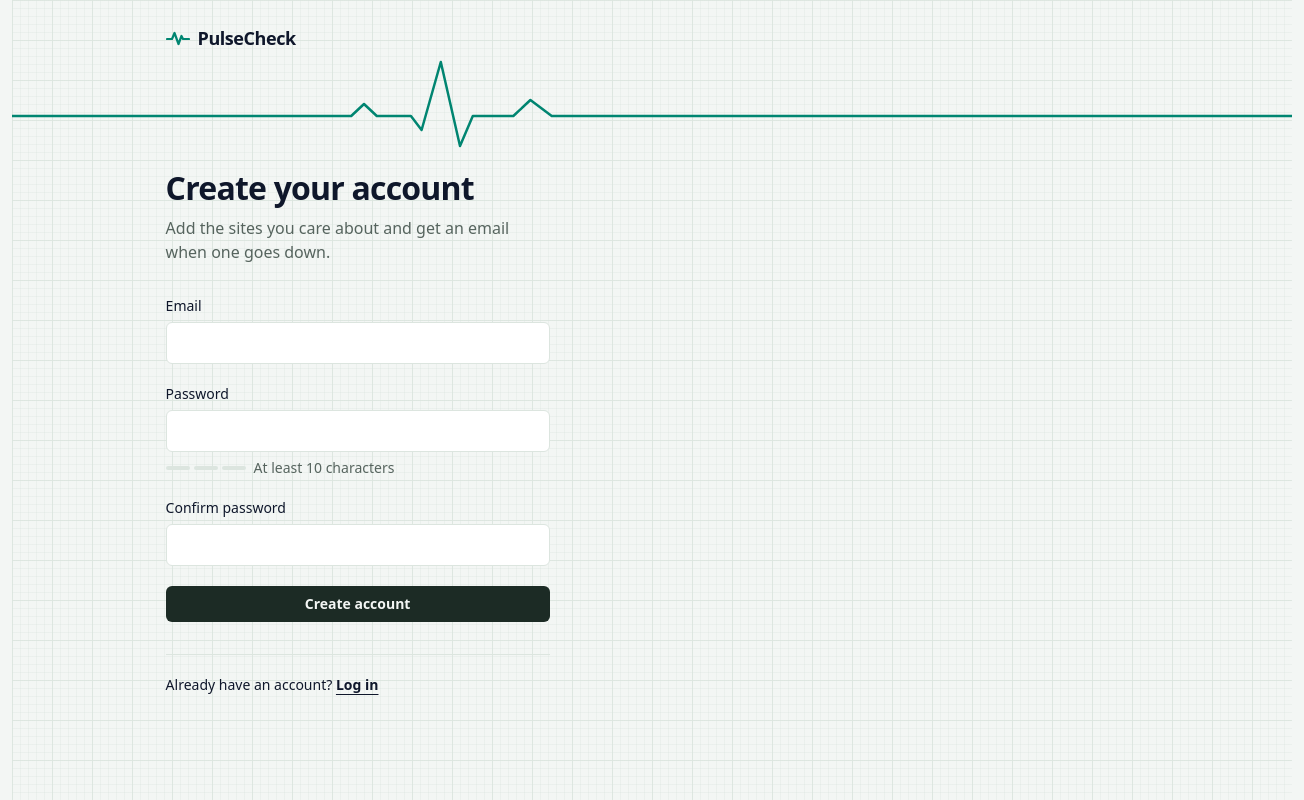
Scenario: Signup › enforces length, common-password and confirmation rules
In the field labelled "Email": (358, 343) [166,322,550,364], type "ada@example.com"
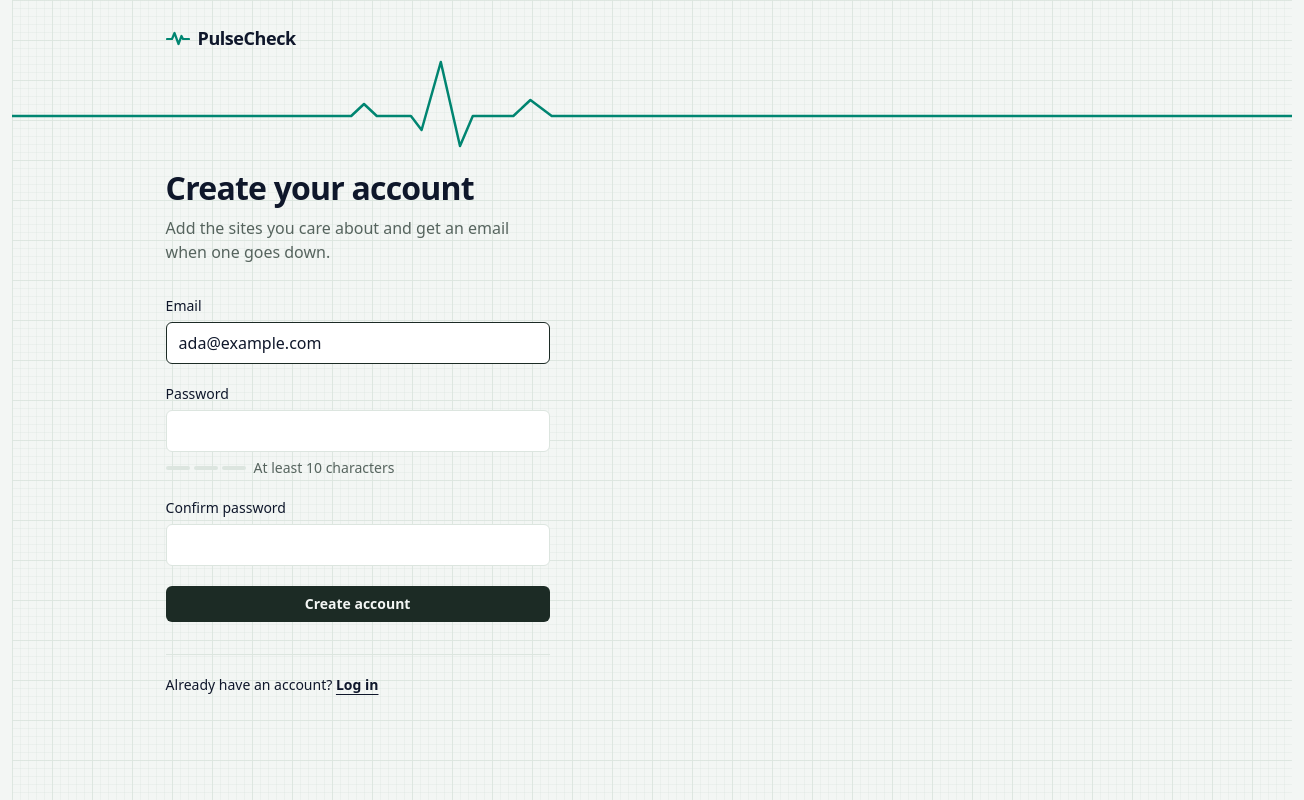
In the password field labelled "Password": (358, 431) [166,410,550,452], type "short"
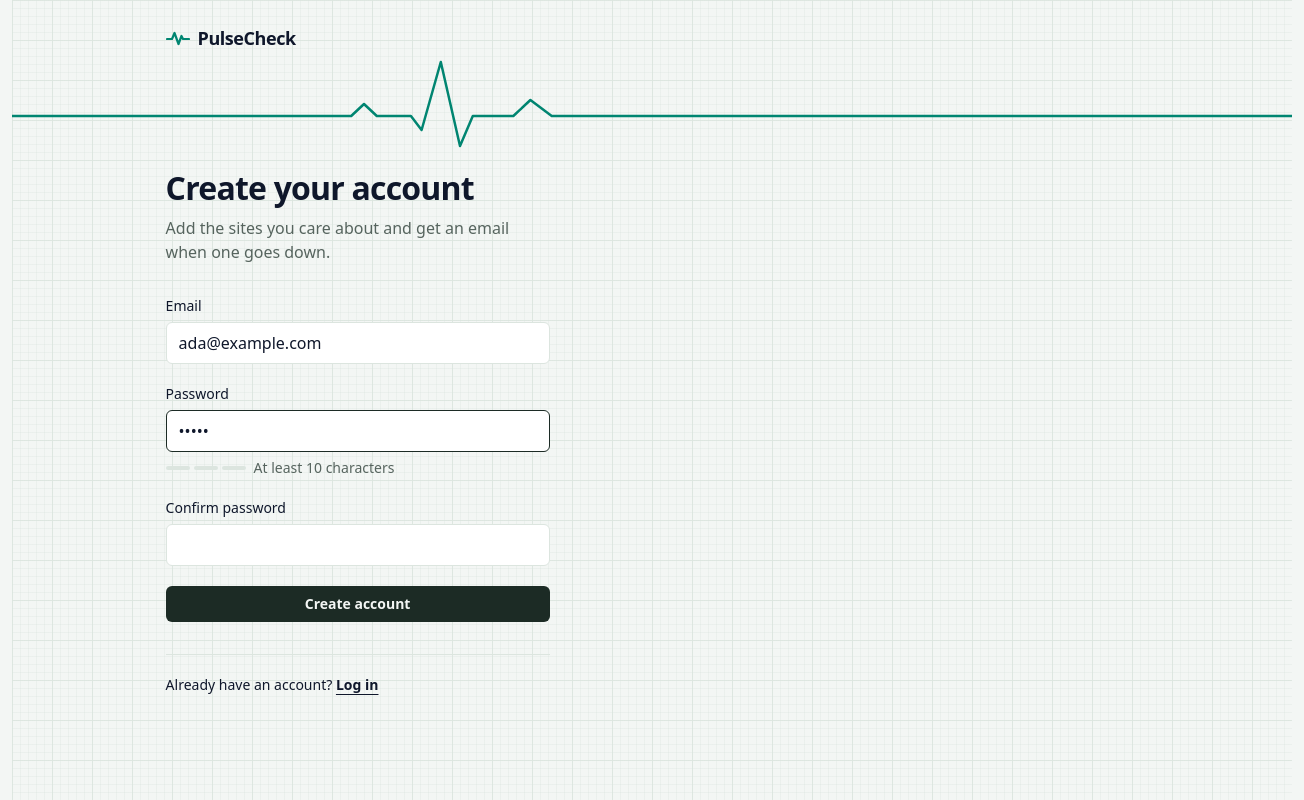
In the password field labelled "Confirm password": (358, 545) [166,524,550,566], type "different"
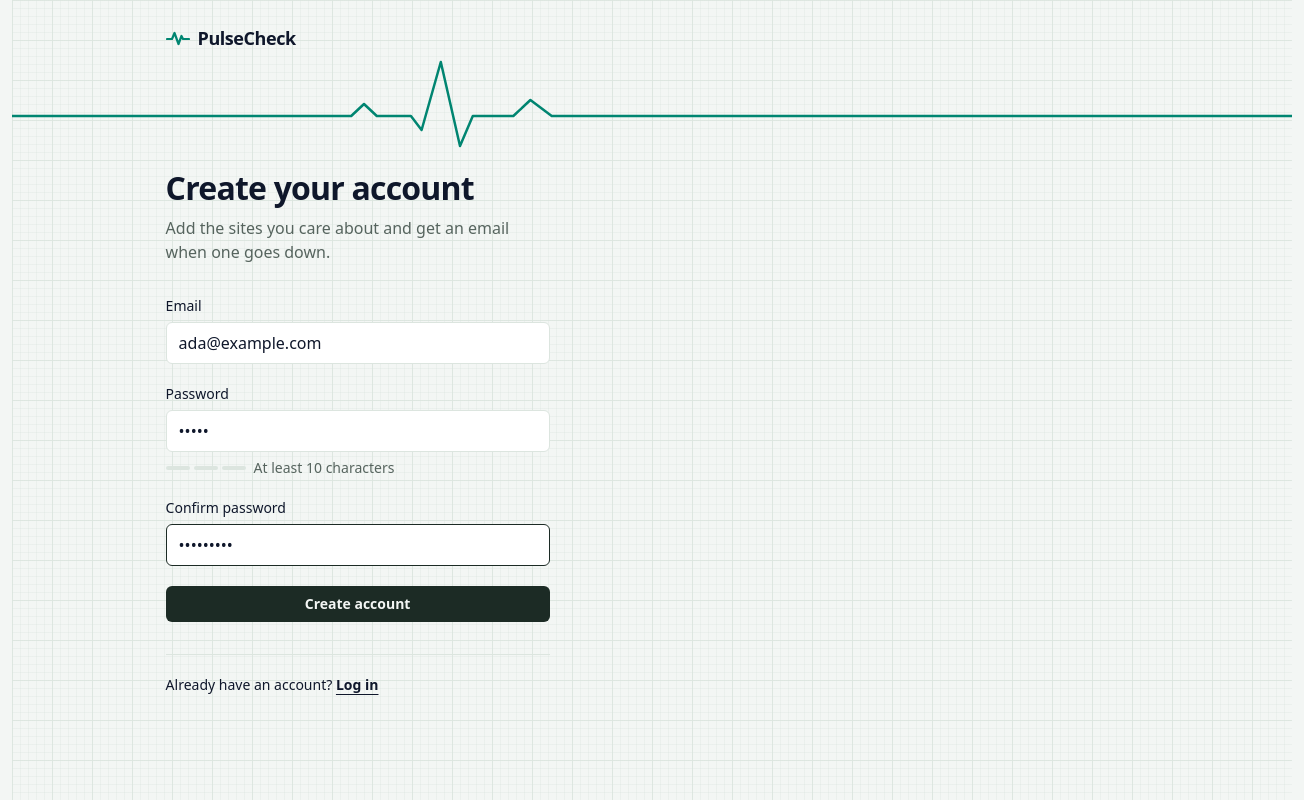
Click the button "Create account": click(358, 604) [166,586,550,622]
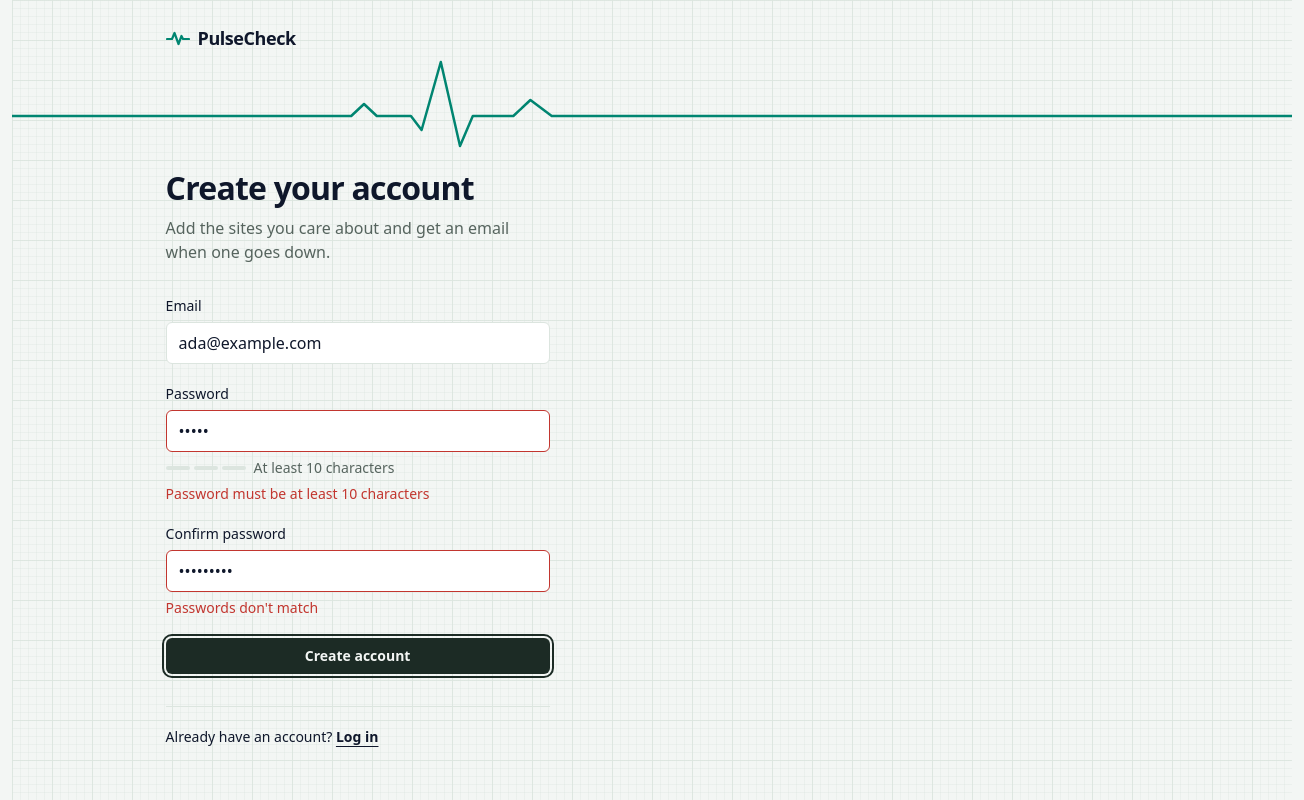
expect the text "Password must be at least 10 characters" is shown: met, box [166,484,430,503]
expect the text "Passwords don't match" is shown: met, box [166,598,318,617]
In the password field labelled "Password": (358, 431) [166,410,550,452], type "Password123"
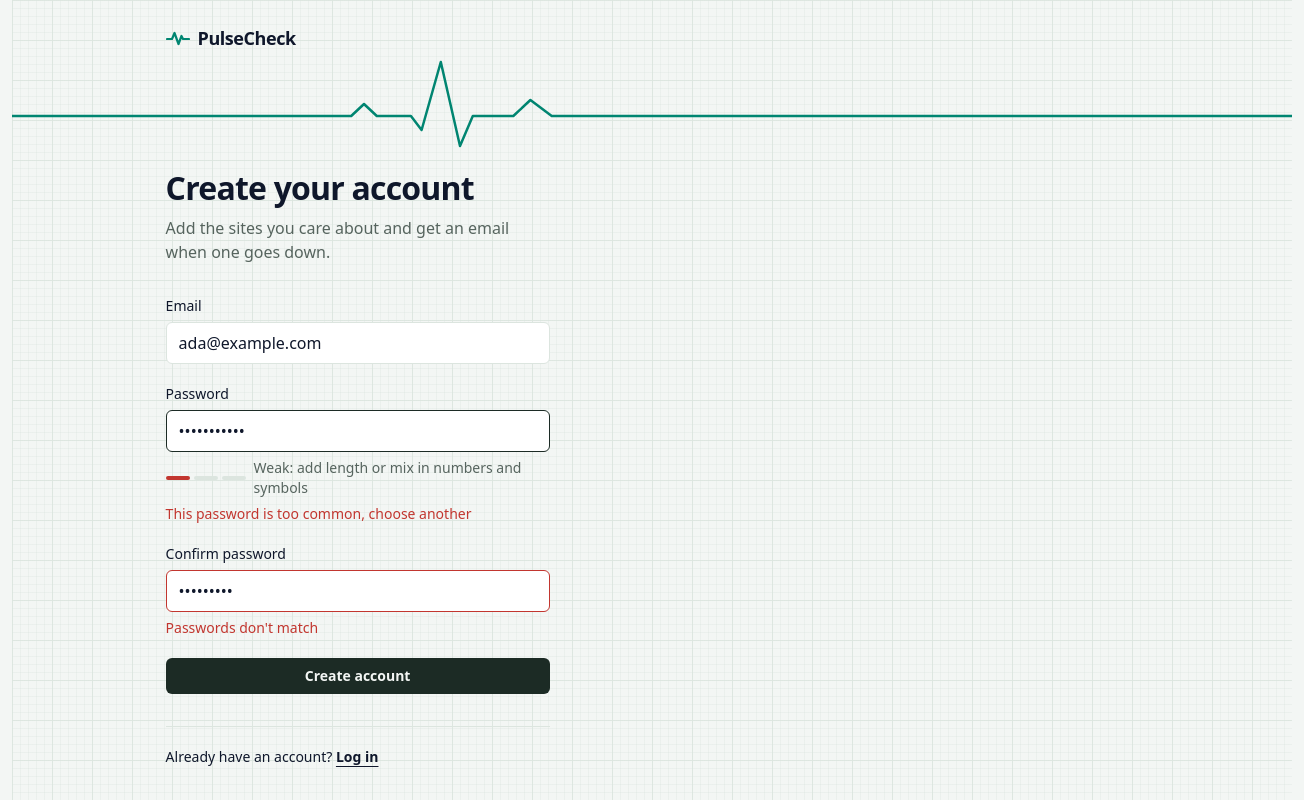
expect the text "This password is too common, choose another" is shown: met, box [166,504,472,523]
